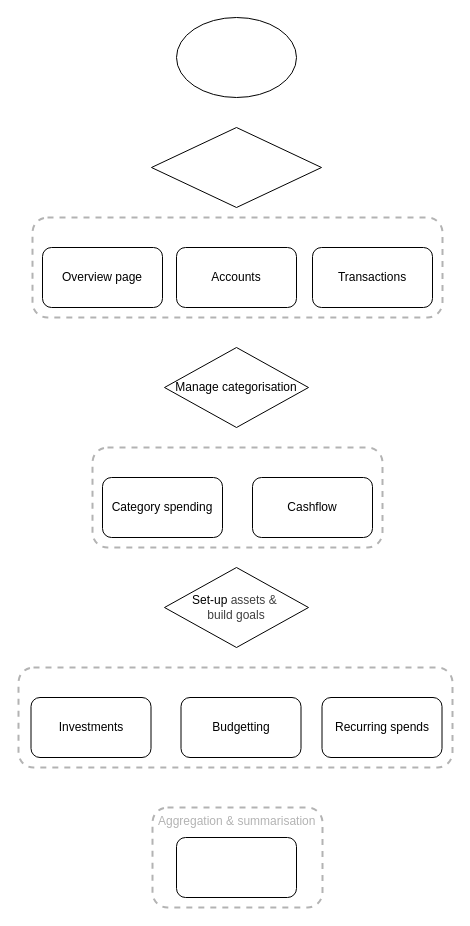
Some shapes in this 470 by 926 pixel diagram are drawn without their labels. The box of each missing label's shape, as (x1, y1, x2, y2) in pixels:
Experimental advanced modelling & forecasting: (17, 666, 453, 768)
Generate advise and wealth-management report: (176, 836, 296, 898)
Initialise dashboard/ open CLI: (176, 16, 296, 98)
Semantic-dependent analysis: (91, 446, 383, 548)
Surface-level deterministic analysis: (31, 216, 443, 318)
Upload statements or connect accounts: (150, 126, 322, 208)
